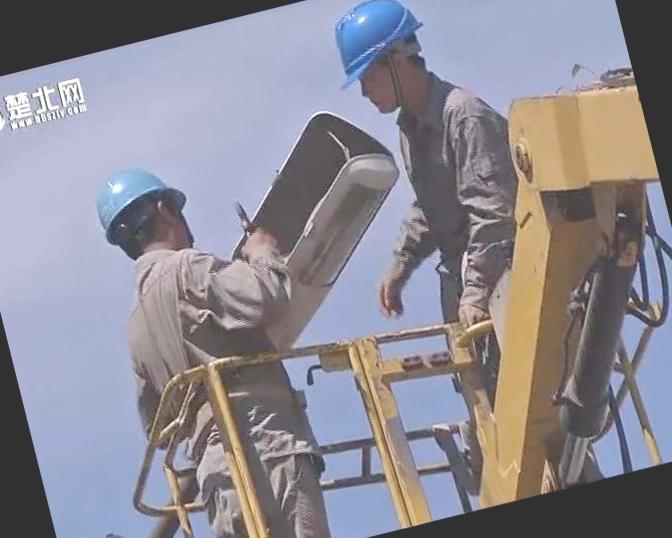helmet: (314, 0, 439, 102), (84, 154, 198, 254)
no_vest: (103, 224, 298, 481), (376, 67, 540, 294)
person: (82, 137, 331, 538), (321, 0, 564, 377)
